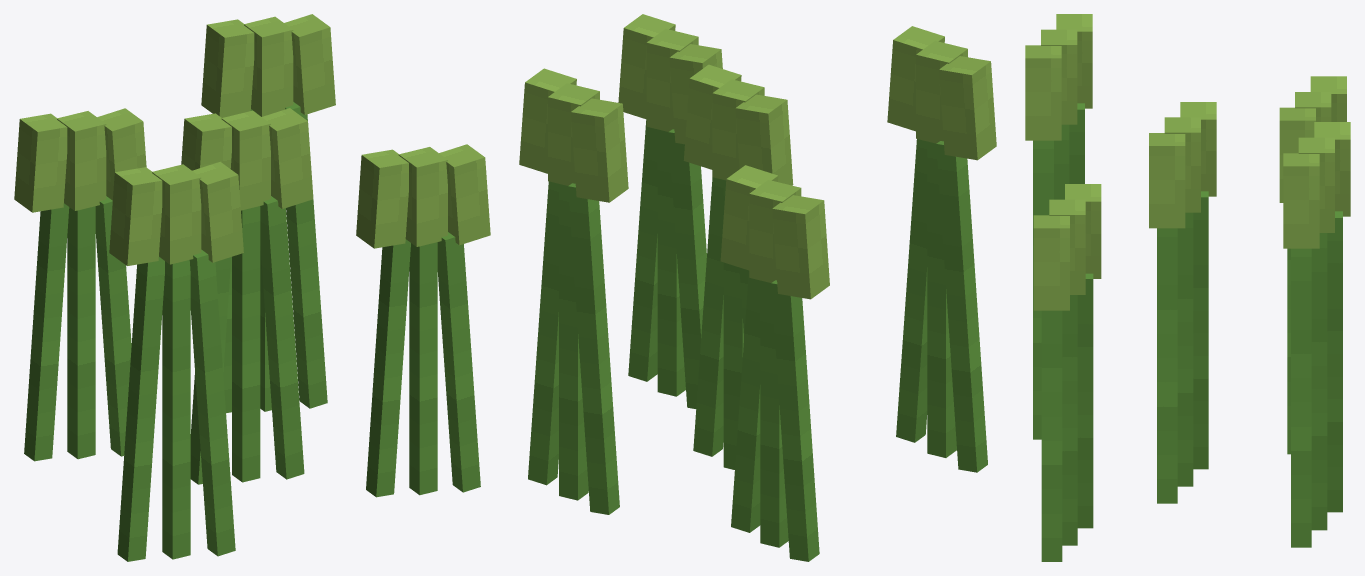
The model's file is crop_ble_2.glb.
The picture shows the model from 3 angles, left to right: view 1: azimuth 30°, elevation 25°; view 2: azimuth 150°, elevation 25°; view 3: azimuth 270°, elevation 25°; orthographic projection. The views are drawn at different scales.
Parts seen in each view (by area): view 1: Crop; view 2: Crop; view 3: Crop.
Boxes of the visible parts, x1,y1,x2,y2 form: Crop: (14,14,490,561); Crop: (519,14,996,561); Crop: (1025,14,1350,561).
Bounding box in the file's own units: 0.7875 × 0.813 × 0.6271.
Materials: 2 (2 with a texture image).
